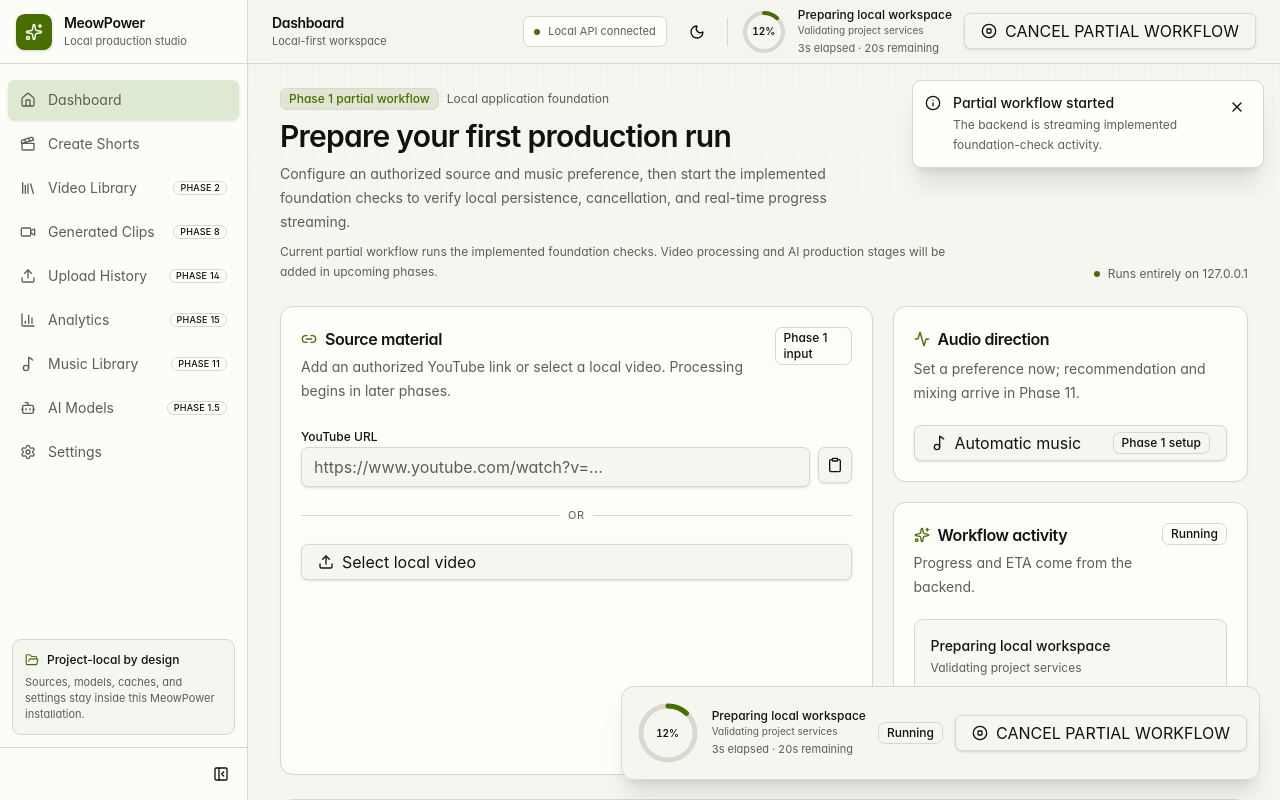
it: shared workflow controls and SSE › cancels the running job from the shared controls
Earlier steps of the test are not shown.
What coordinates should you click on to do the following:
click the button "CANCEL PARTIAL WORKFLOW" in the row of "Local API connected"
I would click on:
 (1110, 30)
Its box is [964,12,1256,48].
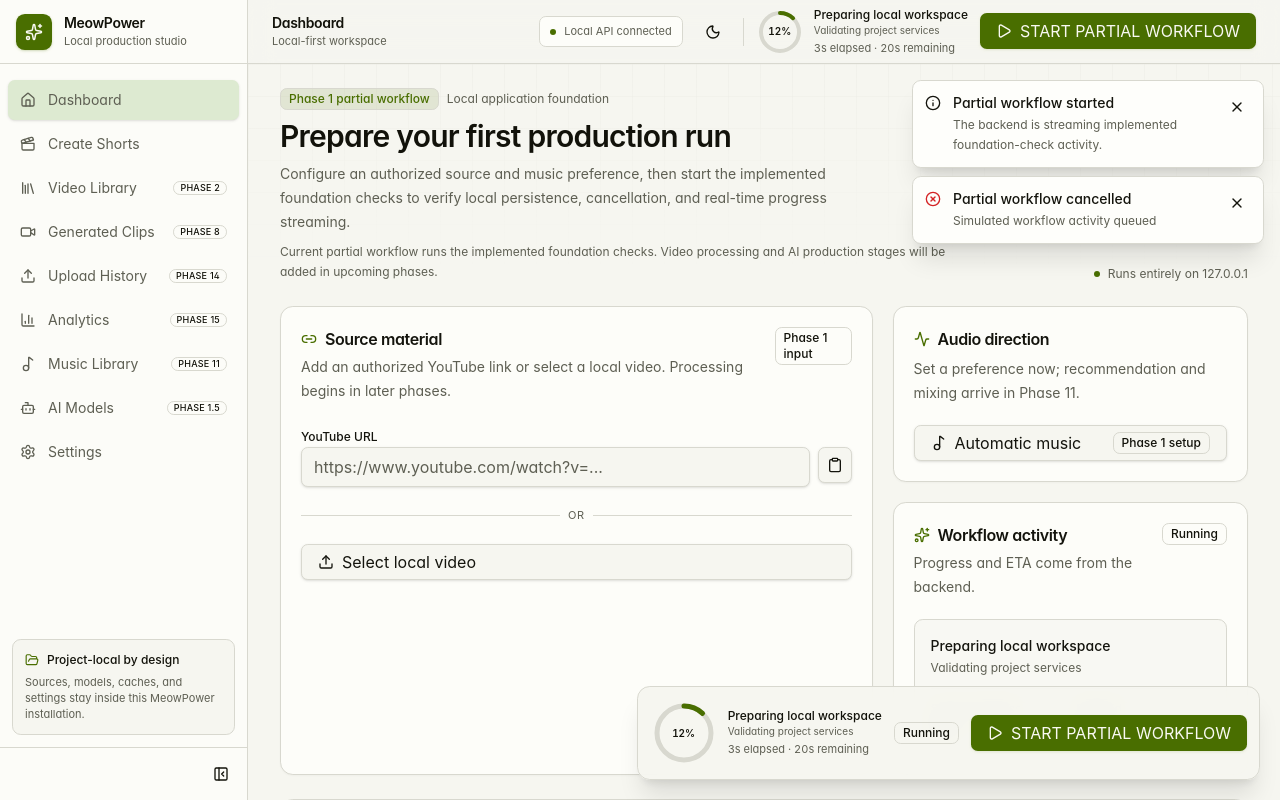
Check: the text "Partial workflow cancelled" is shown, box [953,190,1132,207]
